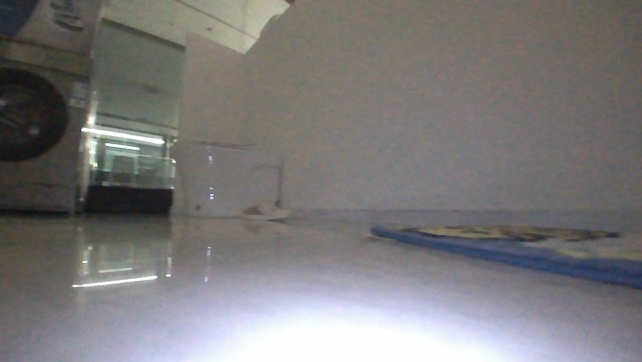blanket: (365, 219, 640, 291)
shoe: (241, 200, 293, 220)
toilet: (169, 135, 284, 218)
washing_machine: (0, 35, 95, 215)
